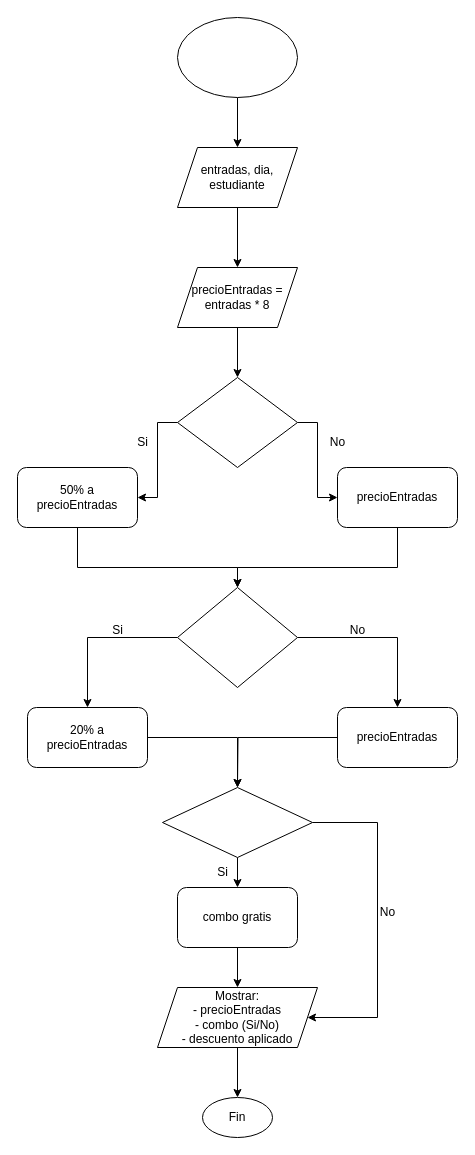
Image size: 475x1155. Some labels were removed from this diagram. Here are the shapes that lost their labels. From the top down, the box of each, then its label:
(176, 16, 298, 98): Inicio
(176, 376, 298, 468): ¿Es miércoles?
(176, 586, 298, 688): ¿Es estudiante?
(162, 786, 312, 858): precioEntradas>= 30
